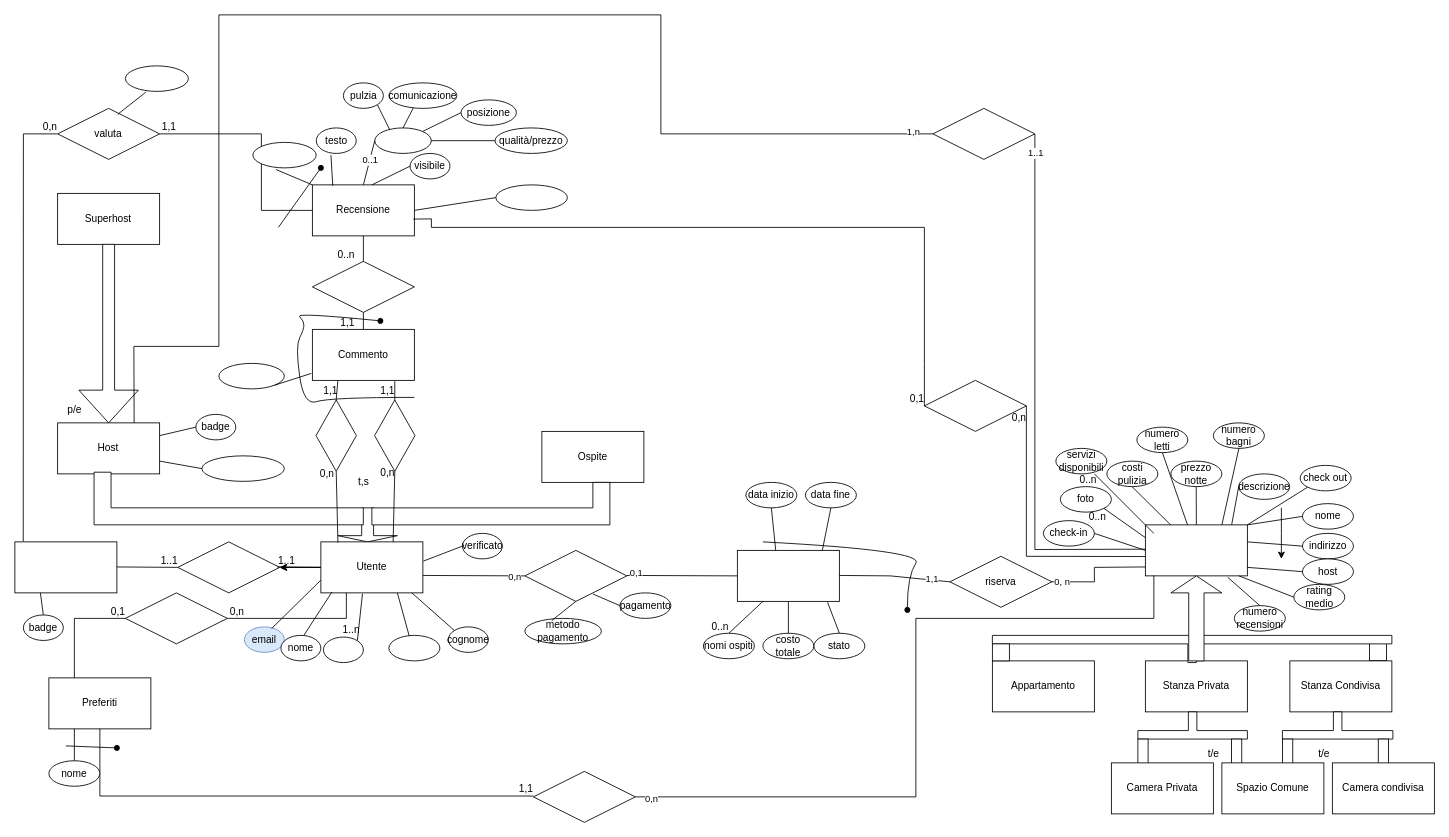
The diagram is 1449 pixels wide and 837 high, and some of its shapes have lost their labels. Here are the shapes that lost their labels. From the top down, the centre of each, then its label:
At [156,78]: "ruolo".
At [402,140]: "punteggio".
At [983,133]: "possiede".
At [284,155]: "data recensione".
At [531,197]: "testoAlloggio".
At [363,286]: "comprende".
At [251,376]: "data commento".
At [975,405]: "riceve".
At [335,435]: "mandante".
At [394,435]: "ricevemente".
At [242,468]: "tasso cancellazione".
At [65,567]: "Profilo".
At [228,567]: "identificabile".
At [1196,550]: "Alloggio".
At [575,575]: "effettua".
At [788,575]: "Prenotazione".
At [176,618]: "aggiunge".
At [1196,618]: "t/s".
At [343,649]: "numero".
At [414,648]: "password".
At [584,796]: "selezionato".
